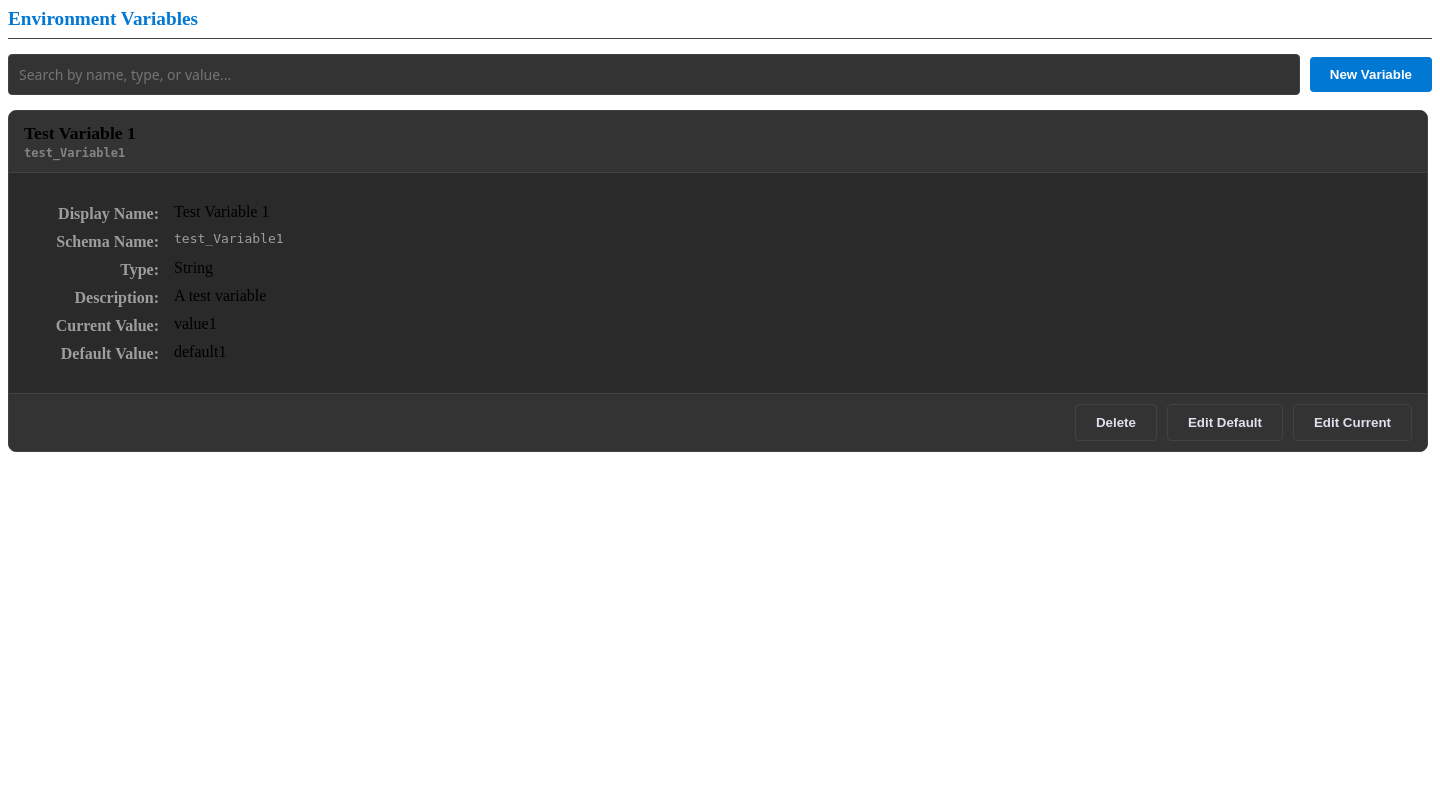
Test: EnvVarsTab › solution selection and switching › should disable create button when no solution is selected
Click the button with id "env-var-add-btn". click: (1371, 74)
box: [1310,57,1432,92]
(page scrolled)
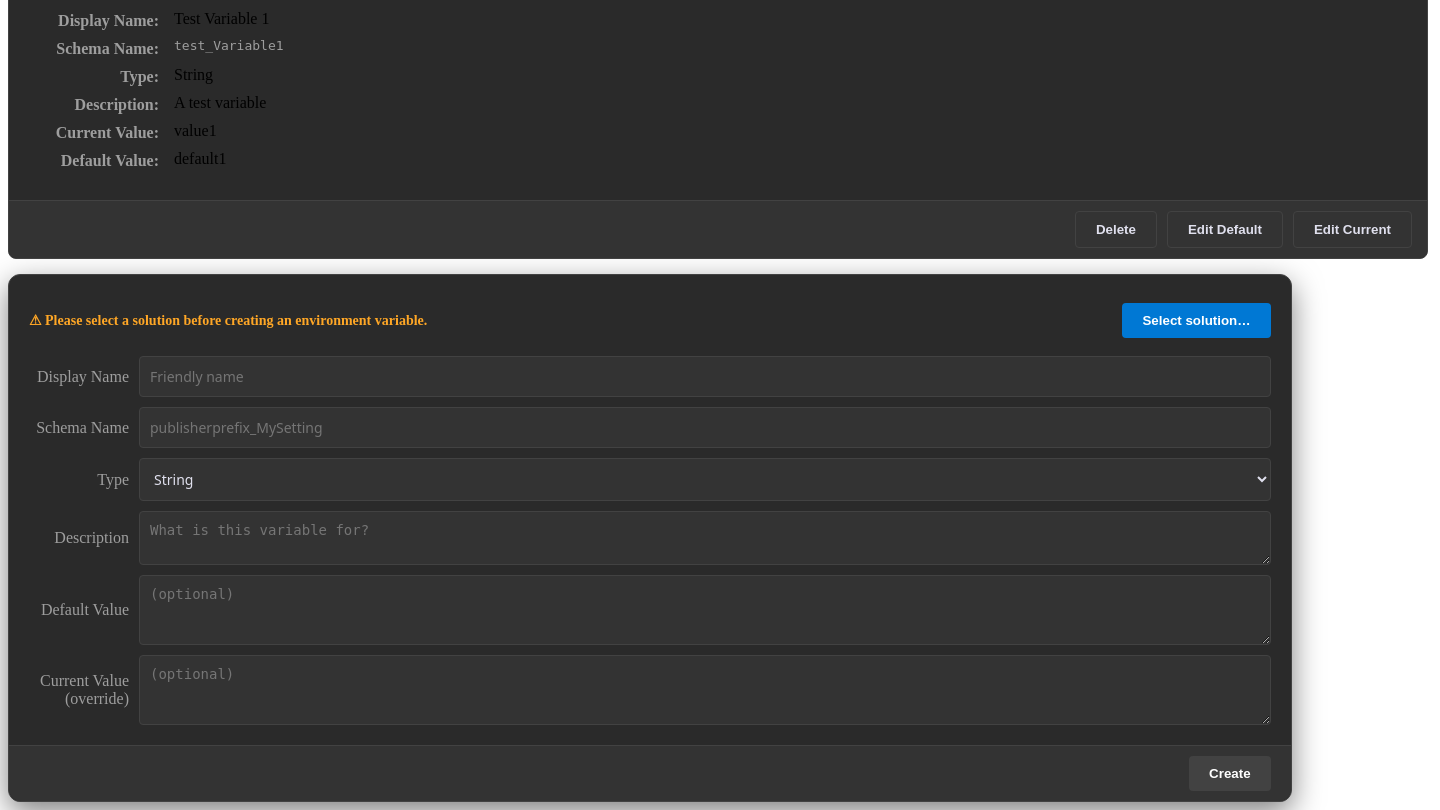
Check: the button with id "nv-create" is disabled, box [1189,756,1271,791]
